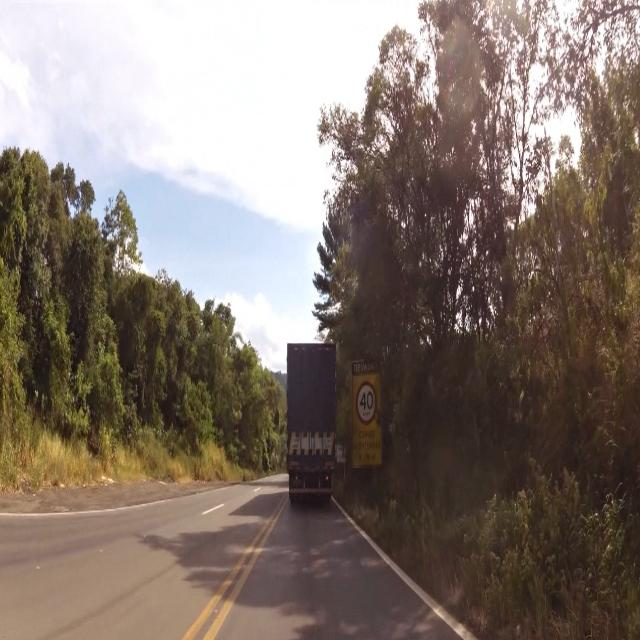R-19: (357, 376, 381, 425)
